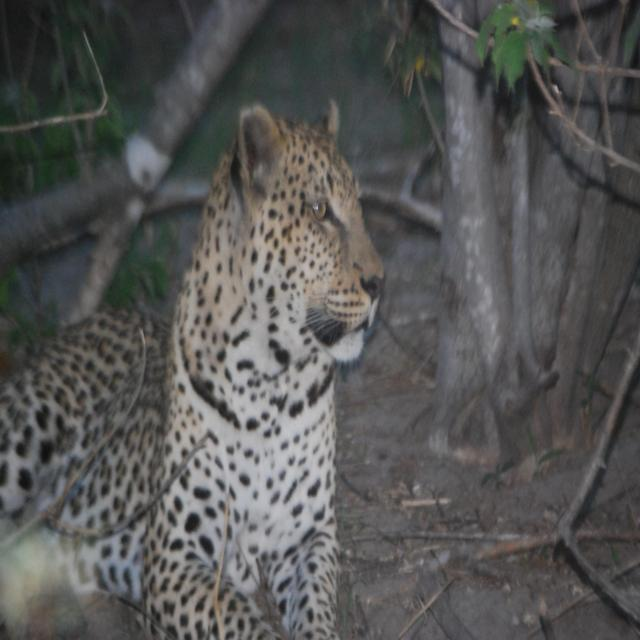Leopard: (0, 99, 389, 640)
